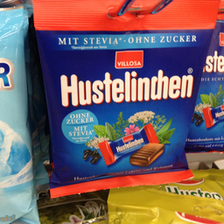candy: (32, 1, 216, 200)
